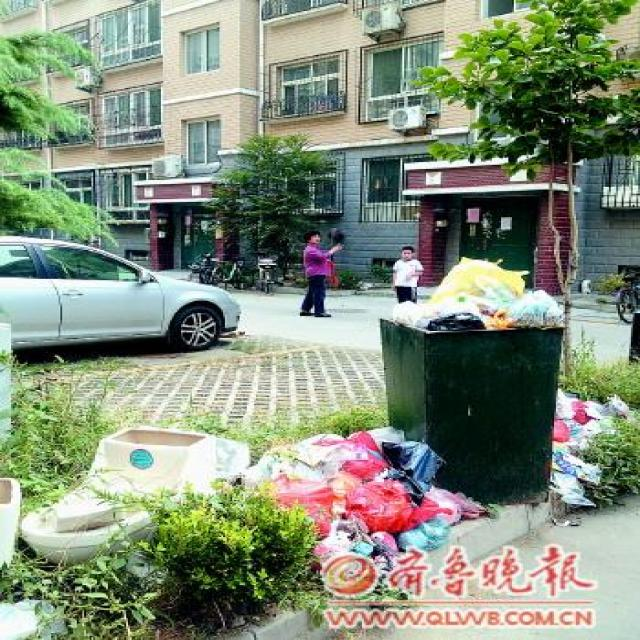garbage: (247, 426, 486, 577), (550, 387, 633, 504)
overflow: (377, 254, 563, 503)
